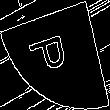P_E: (31, 30, 79, 80)
